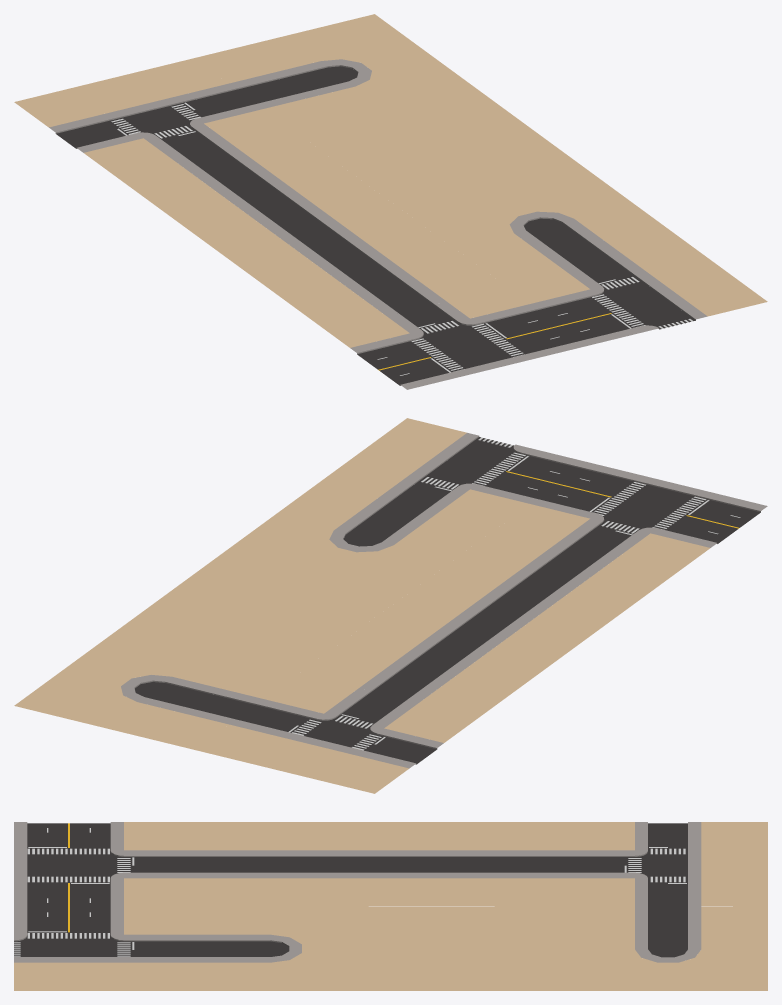
Rendered from road-zone-homes-right.glb.
3 views of the same model, one above another, from view 1: azimuth 30°, elevation 25°; view 2: azimuth 150°, elevation 25°; view 3: azimuth 270°, elevation 25° (orthographic). The views are drawn at different scales.
Parts seen in each view (by area): view 1: road-end.002, road-straight-double.001, road-intersection-one.003, road-end.001, tile-mainroad-road-intersection-t-nb.001, road-to-intersection-double.001; view 2: road-end.002, road-straight-double.001, road-intersection-one.003, road-end.001, tile-mainroad-road-intersection-t-nb.001, road-to-intersection-double.001; view 3: road-straight-double.001, road-end.002, road-end.001, road-intersection-one.003, road-to-intersection-double.001, tile-mainroad-road-intersection-t-nb.001.
Part boxes in pixels (x1,y1,x2,y2): road-end.002: (195,14,582,210); road-straight-double.001: (118,134,506,330); road-intersection-one.003: (14,58,297,178); road-end.001: (403,166,686,286); tile-mainroad-road-intersection-t-nb.001: (507,243,767,345); road-to-intersection-double.001: (326,287,586,389); road-end.002: (14,553,402,749); road-straight-double.001: (299,521,686,717); road-intersection-one.003: (195,673,478,793); road-end.001: (222,477,506,597); tile-mainroad-road-intersection-t-nb.001: (326,418,586,520); road-to-intersection-double.001: (507,462,767,564); road-straight-double.001: (168,822,568,906); road-end.002: (368,906,767,990); road-end.001: (168,906,368,990); road-intersection-one.003: (568,822,767,907); road-to-intersection-double.001: (14,822,168,907); tile-mainroad-road-intersection-t-nb.001: (14,906,168,990).
Bounding box in the file's own units: 60 × 0.2015 × 113.
